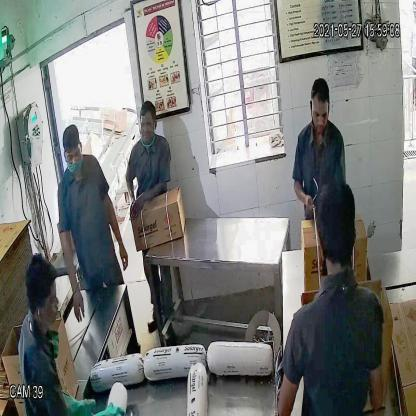no_goggles: (308, 103, 334, 125)
